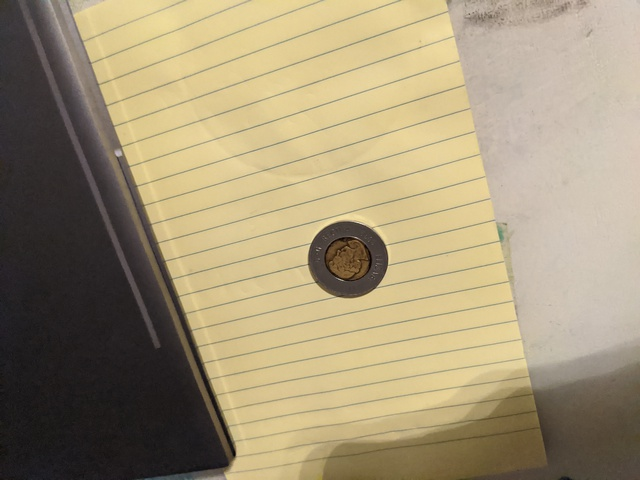twonie: (302, 210, 392, 295)
